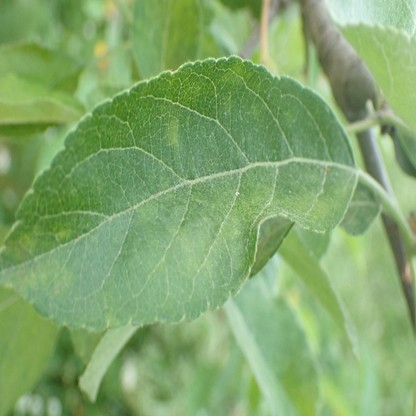scab: (250, 183, 347, 216), (18, 259, 74, 299), (215, 189, 247, 238), (7, 234, 36, 262), (165, 118, 179, 146), (137, 201, 156, 221), (226, 63, 243, 85), (55, 229, 72, 240), (106, 315, 118, 327), (223, 97, 231, 112), (204, 242, 208, 251), (176, 229, 180, 237)
